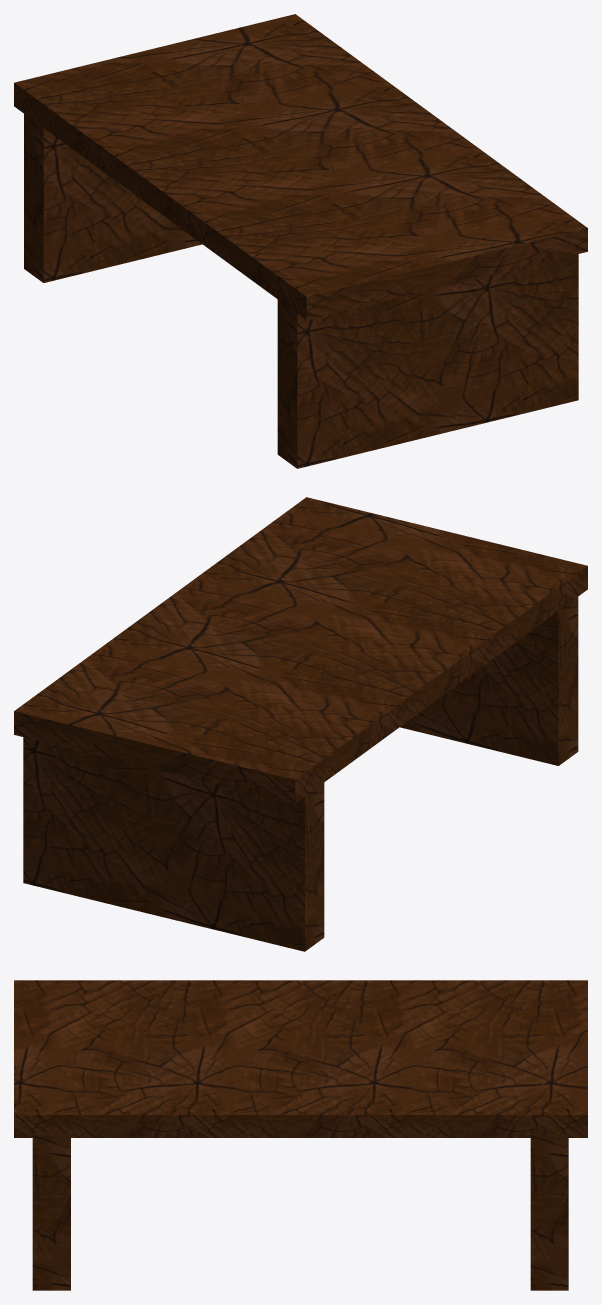
File: desk.FBX
3 views of the same model, one above another, from view 1: azimuth 30°, elevation 25°; view 2: azimuth 150°, elevation 25°; view 3: azimuth 270°, elevation 25° (orthographic).
Visible parts, largest first — view 1: Box001, Box004, Box003; view 2: Box001, Box003, Box004; view 3: Box001, Box003, Box004.
Part boxes in pixels (x1,y1,x2,y2): Box001: (14, 14, 587, 320); Box004: (277, 254, 578, 468); Box003: (24, 114, 202, 282); Box001: (14, 497, 587, 803); Box003: (23, 737, 324, 951); Box004: (400, 597, 578, 765); Box001: (14, 980, 587, 1137); Box003: (530, 1134, 568, 1290); Box004: (32, 1134, 70, 1290).
Size of the model in its own units: 25.03 by 15.2 by 45.
